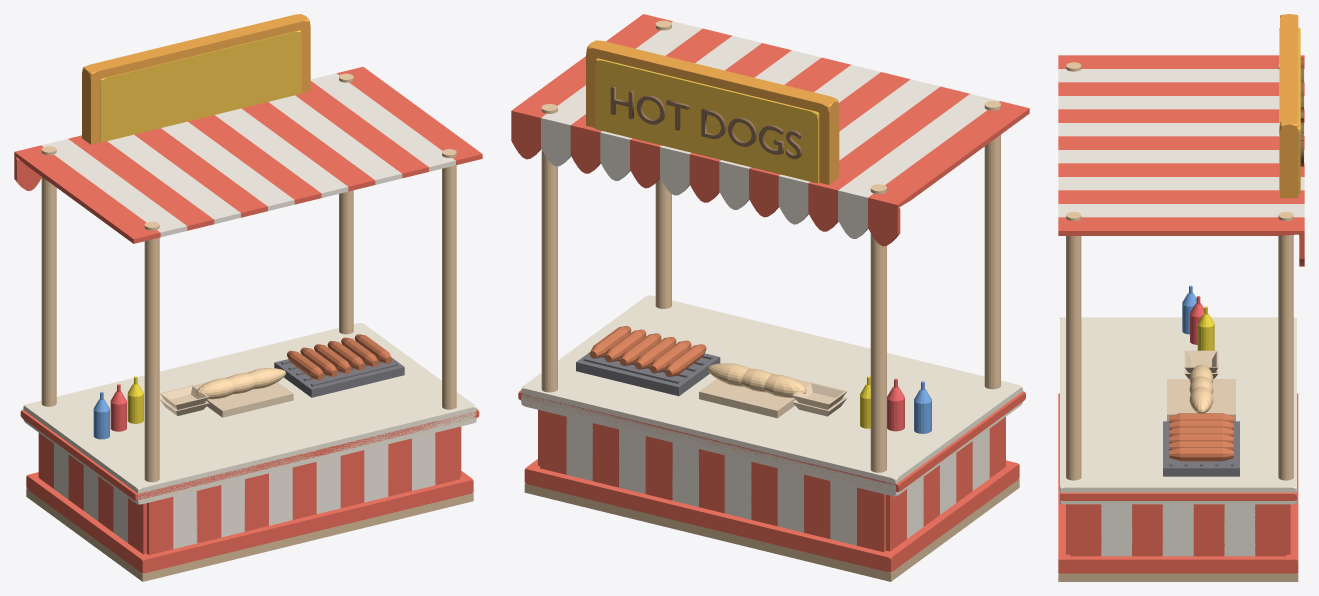
The model's file is 33-hot-dog-stand-hd12.glb.
3 views of the same model, side by side, from view 1: azimuth 30°, elevation 25°; view 2: azimuth 150°, elevation 25°; view 3: azimuth 270°, elevation 25° (orthographic). The views are drawn at different scales.
Visible parts, largest first — view 1: Canopy, Countertop, SignPlate, BaseTrim, SignFrame, Post_2, BasePlate, Post_3, Post_0, CounterRim, Post_1, GrillTray (+23 smaller); view 2: Canopy, Countertop, SignPlate, BaseTrim, SignFrame, BasePlate, Post_2, Post_1, Post_0, SignText, CounterRim, GrillTray (+26 smaller); view 3: Canopy, Countertop, BaseTrim, Post_1, Post_3, SignFrame, BasePlate, CounterRim, BunTray, GrillTray, Skirt_right_0, Skirt_right_6 (+16 smaller).
Boxes of the visible parts, box(x1,y1,x2,y2) form: Canopy: box(14, 67, 482, 243); Countertop: box(23, 323, 476, 504); SignPlate: box(100, 30, 301, 142); BaseTrim: box(26, 471, 473, 573); SignFrame: box(82, 14, 310, 144); Post_2: box(144, 221, 159, 482); BasePlate: box(26, 488, 473, 581); Post_3: box(442, 149, 456, 409); Post_0: box(41, 146, 56, 406); CounterRim: box(20, 409, 479, 500); Post_1: box(339, 73, 353, 334); GrillTray: box(274, 358, 404, 397); Canopy: box(511, 14, 1029, 246); Countertop: box(521, 295, 1023, 496); SignPlate: box(595, 58, 819, 183); BaseTrim: box(524, 459, 1019, 572); SignFrame: box(586, 40, 839, 184); BasePlate: box(524, 478, 1019, 581); Post_2: box(984, 101, 1000, 389); Post_1: box(541, 104, 557, 392); Post_0: box(870, 184, 886, 472); SignText: box(610, 86, 801, 159); CounterRim: box(518, 390, 1025, 491); GrillTray: box(576, 352, 720, 396); Canopy: box(1058, 55, 1304, 266); Countertop: box(1060, 317, 1296, 504); BaseTrim: box(1058, 393, 1298, 573); Post_1: box(1278, 212, 1293, 480); Post_3: box(1066, 212, 1081, 480); SignFrame: box(1280, 14, 1298, 198); BasePlate: box(1058, 573, 1298, 581); CounterRim: box(1060, 492, 1296, 500); BunTray: box(1167, 379, 1235, 421); GrillTray: box(1163, 421, 1239, 476); Skirt_right_0: box(1255, 504, 1286, 556); Skirt_right_6: box(1070, 504, 1101, 556).
Size of the model in its own units: 2.7 by 3.09 by 1.6.
